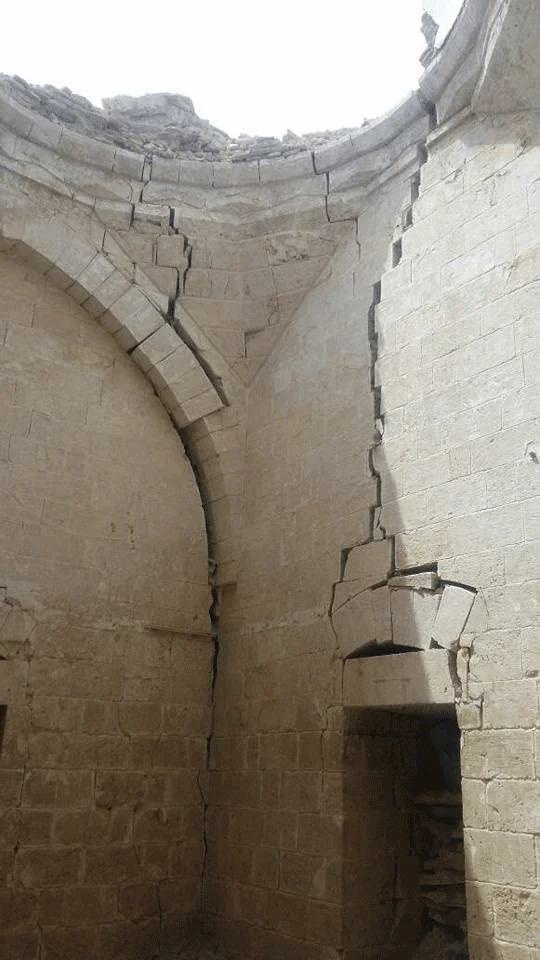crack: (360, 153, 421, 331), (385, 547, 489, 638), (150, 201, 202, 334), (360, 350, 403, 478), (323, 534, 364, 636)
